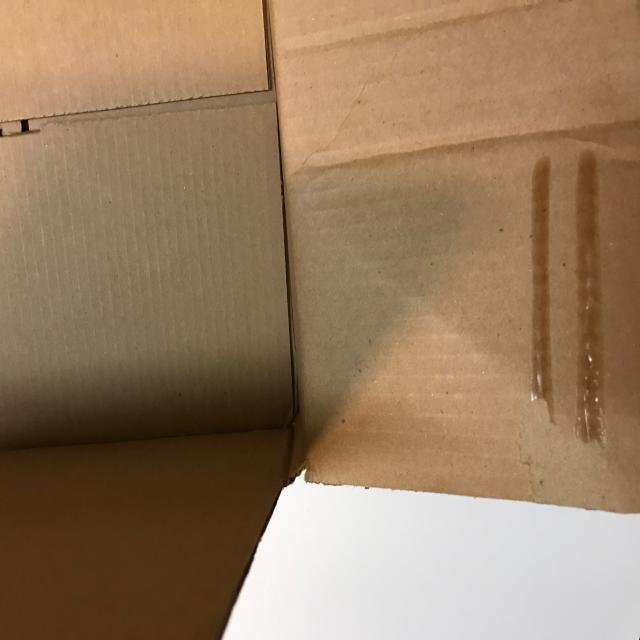cardboard: (0, 0, 640, 640), (268, 0, 269, 13)
